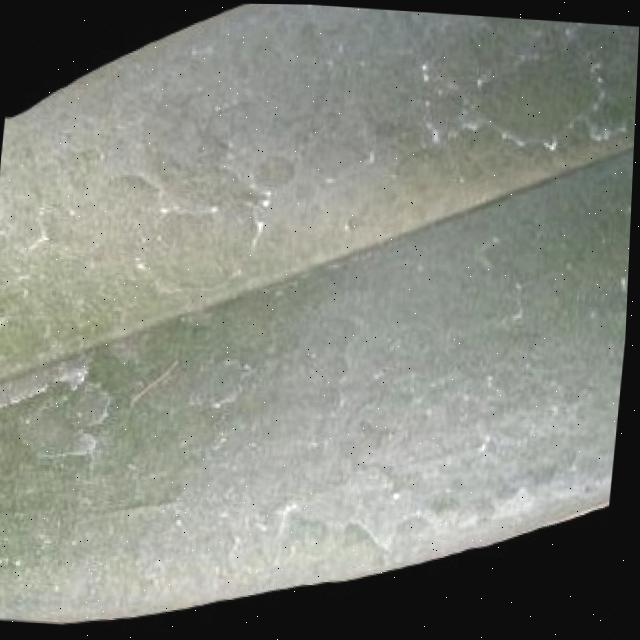mite: (0, 428, 617, 640), (6, 0, 309, 138), (251, 152, 298, 190)
spots: (0, 0, 639, 640)
